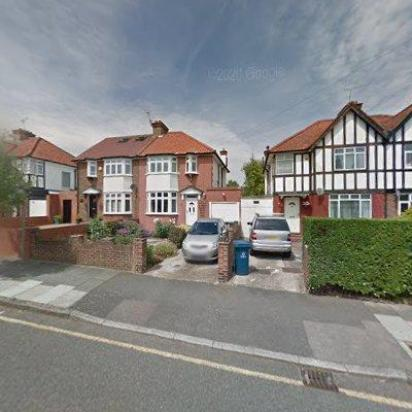stationary-car-offstreet: (248, 211, 293, 258), (182, 217, 226, 265)
